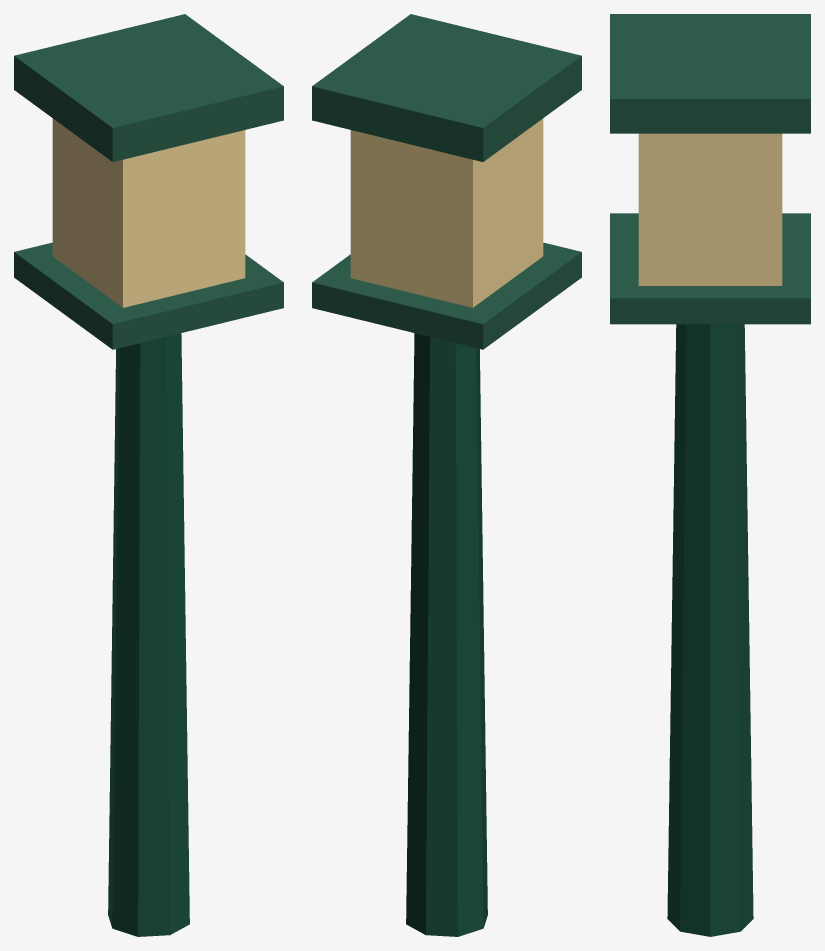
File: lantern.glb
3 renders of one model, left to right at view 1: azimuth 30°, elevation 25°; view 2: azimuth 150°, elevation 25°; view 3: azimuth 270°, elevation 25°, orthographic.
Parts seen in each view (by area): view 1: LanternMesh; view 2: LanternMesh; view 3: LanternMesh.
Boxes of the visible parts, x1,y1,x2,y2 form: LanternMesh: [14, 14, 283, 936]; LanternMesh: [312, 14, 581, 936]; LanternMesh: [610, 14, 810, 936].
Size of the model in its own units: 0.42 by 1.99 by 0.42.
Materials: 1 (1 with a texture image).
